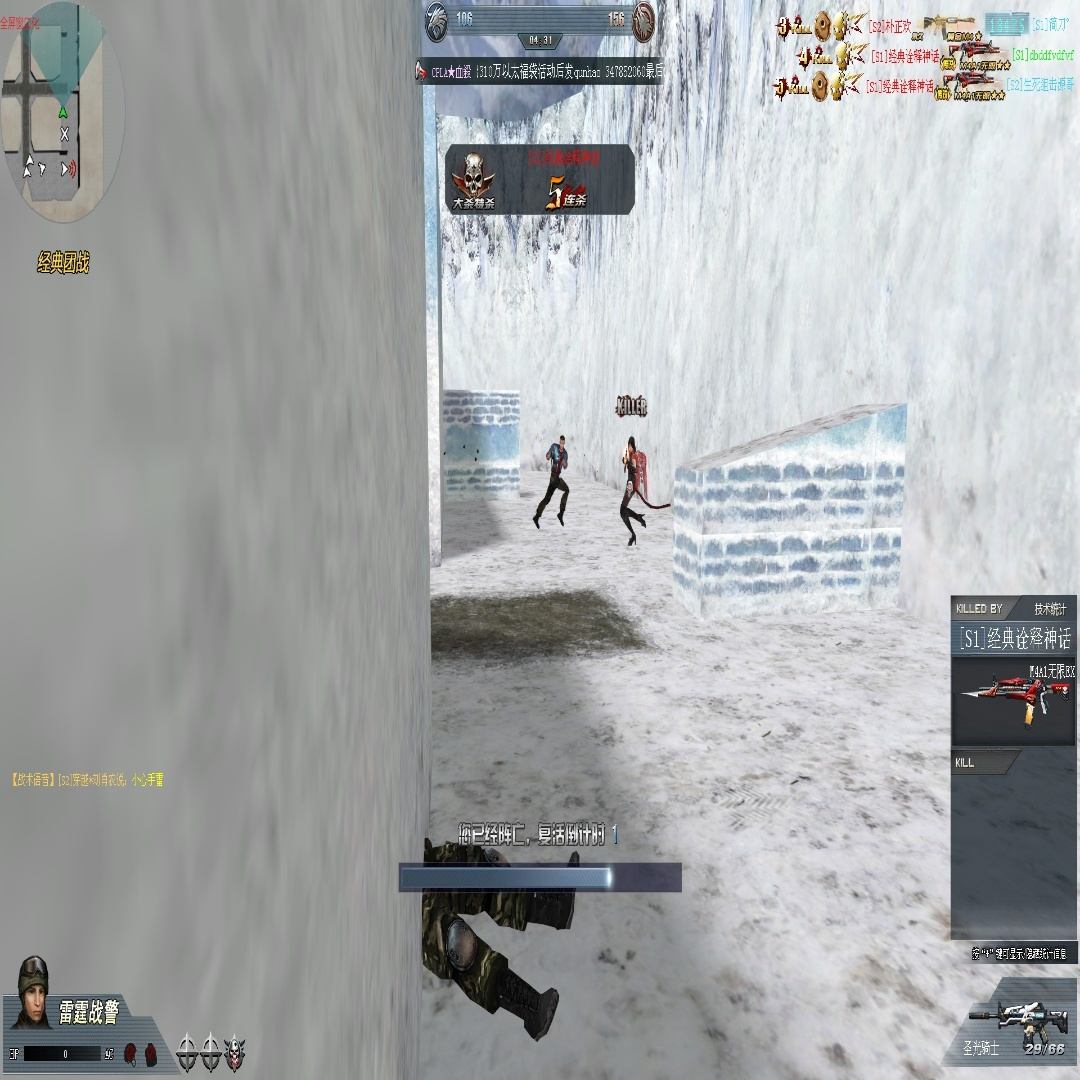head: (627, 436, 637, 454), (558, 434, 565, 450)
t: (620, 434, 643, 553), (545, 434, 569, 527)
